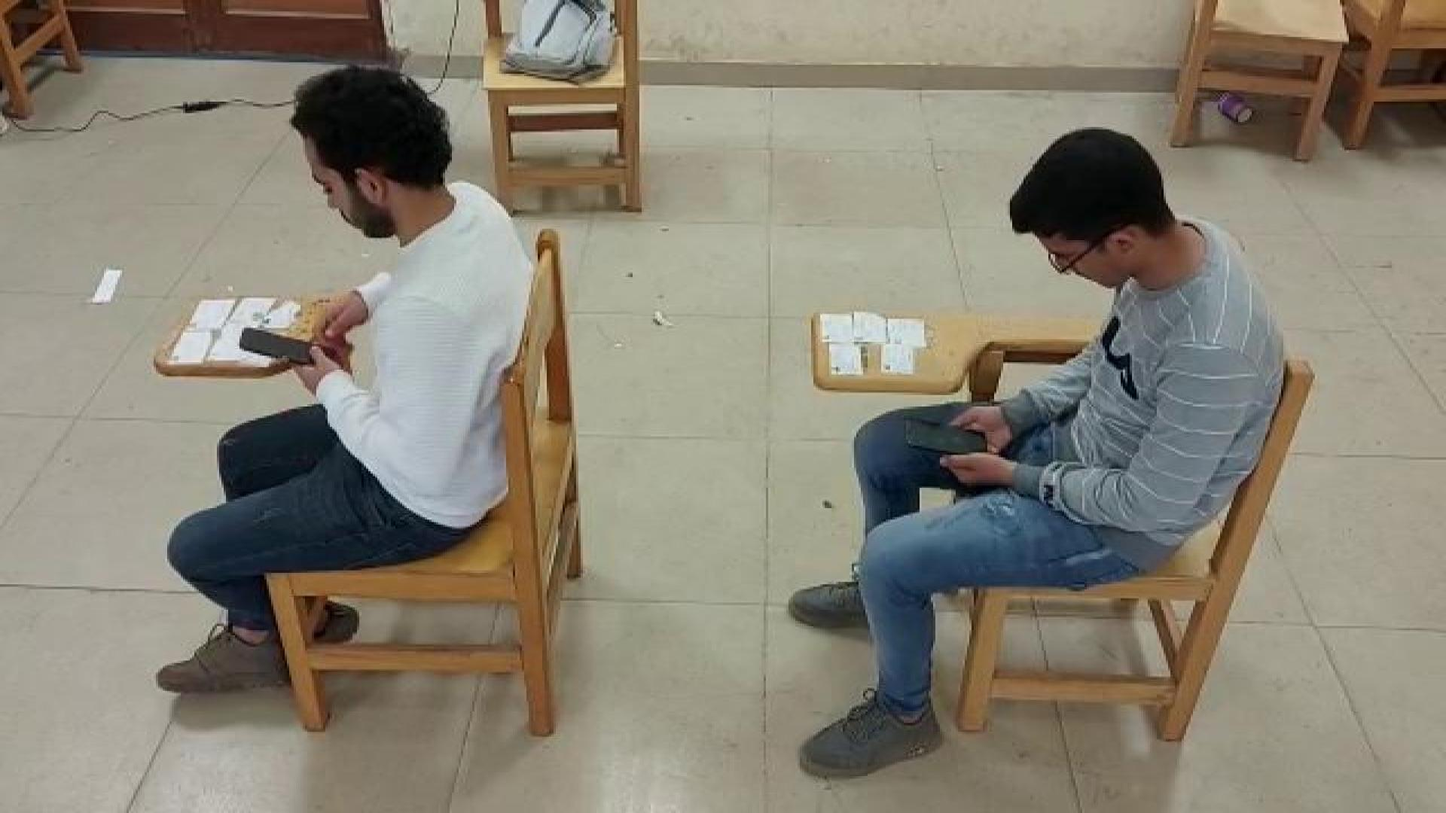phone: (230, 323, 348, 379), (897, 412, 999, 466)
